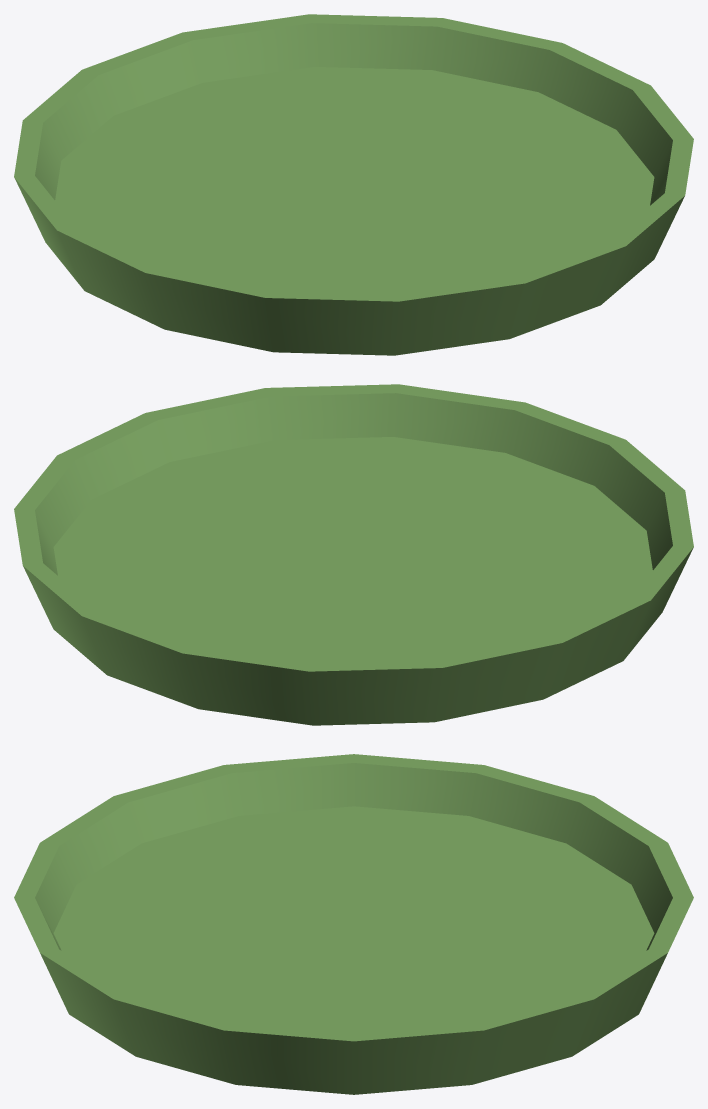
Rendered from Plate_01.fbx.
The picture shows the model from 3 angles, top to bottom: view 1: azimuth 30°, elevation 25°; view 2: azimuth 150°, elevation 25°; view 3: azimuth 270°, elevation 25°; orthographic projection.
Parts seen in each view (by area): view 1: Plate_01; view 2: Plate_01; view 3: Plate_01.
Boxes of the visible parts, left/top/right/bottom form: Plate_01: left=14, top=14, right=693, bottom=355; Plate_01: left=14, top=384, right=693, bottom=725; Plate_01: left=14, top=754, right=693, bottom=1094.
Bounding box in the file's own units: 0.1701 × 0.0184 × 0.1701.
